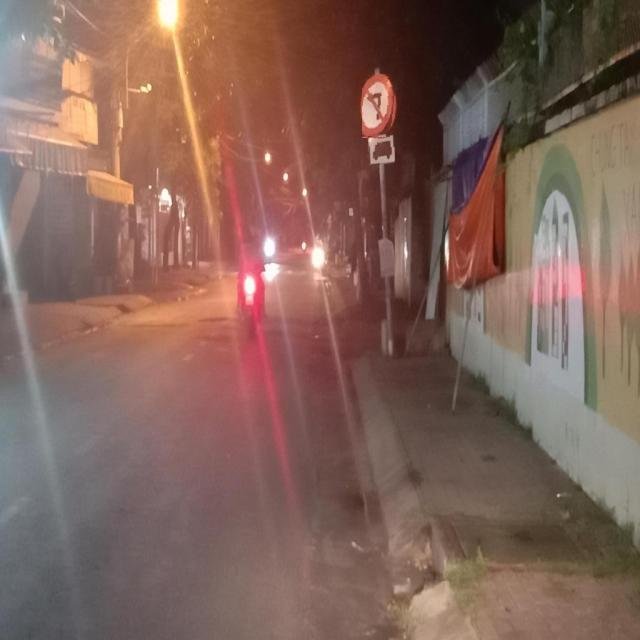cam_re_trai: (362, 74, 397, 138)
khac: (368, 136, 395, 164)
